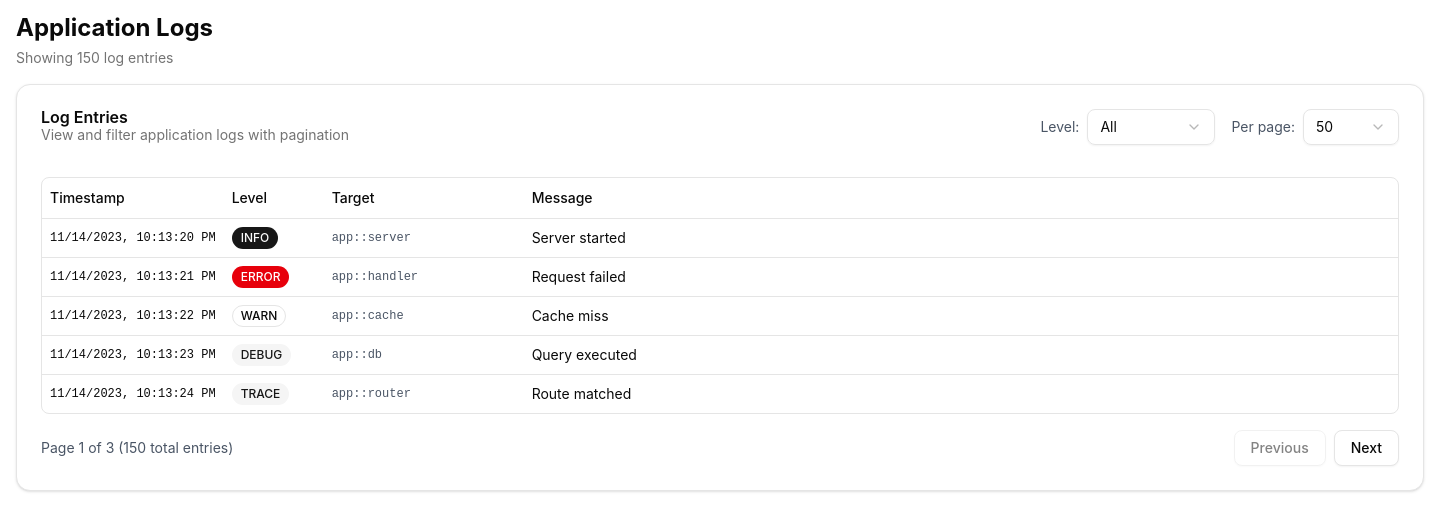
Scenario: Logs › enables the Previous button after moving to the second page
Click the button "Next": (1366, 448) x1=1334 y1=430 x2=1399 y2=466
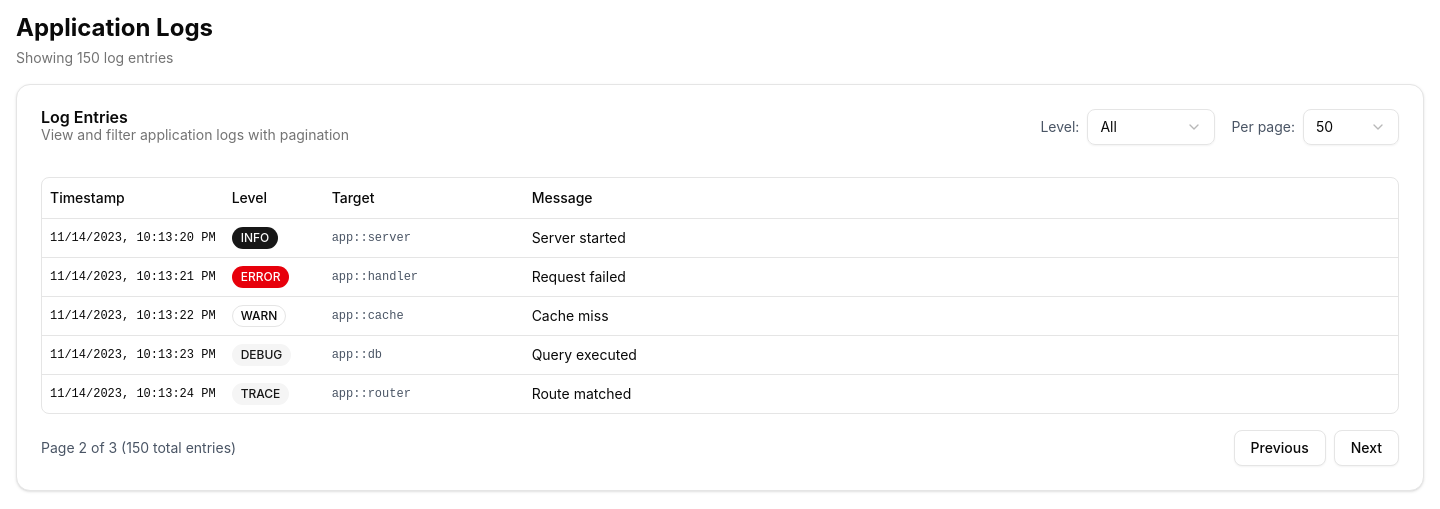
Result: the button "Previous" is enabled at x1=1234 y1=430 x2=1326 y2=466
